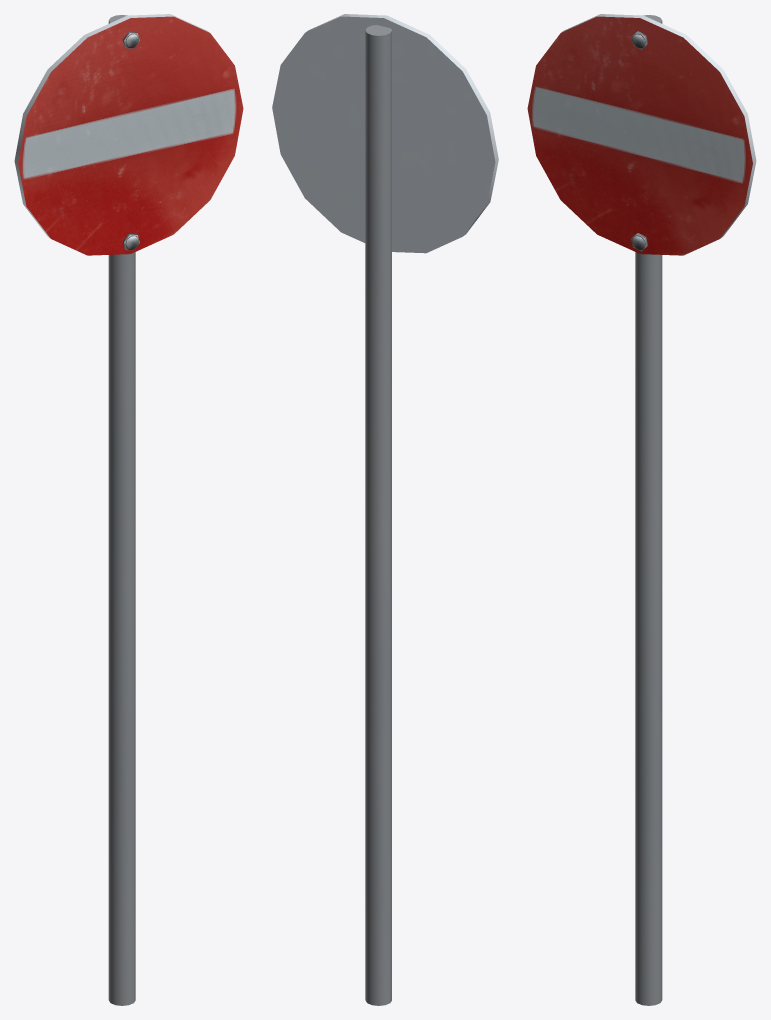
File: StreetSigns_9.fbx
The picture shows the model from 3 angles, left to right: view 1: azimuth 30°, elevation 25°; view 2: azimuth 150°, elevation 25°; view 3: azimuth 330°, elevation 25°; orthographic projection.
Visible parts, largest first — view 1: StreetSigns_9; view 2: StreetSigns_9; view 3: StreetSigns_9.
Part boxes in pixels (bbox=[...]): StreetSigns_9: bbox=[14, 14, 243, 1005]; StreetSigns_9: bbox=[272, 14, 498, 1005]; StreetSigns_9: bbox=[527, 14, 756, 1005].
Size of the model in its own units: 0.9637 by 4.04 by 0.1295.
